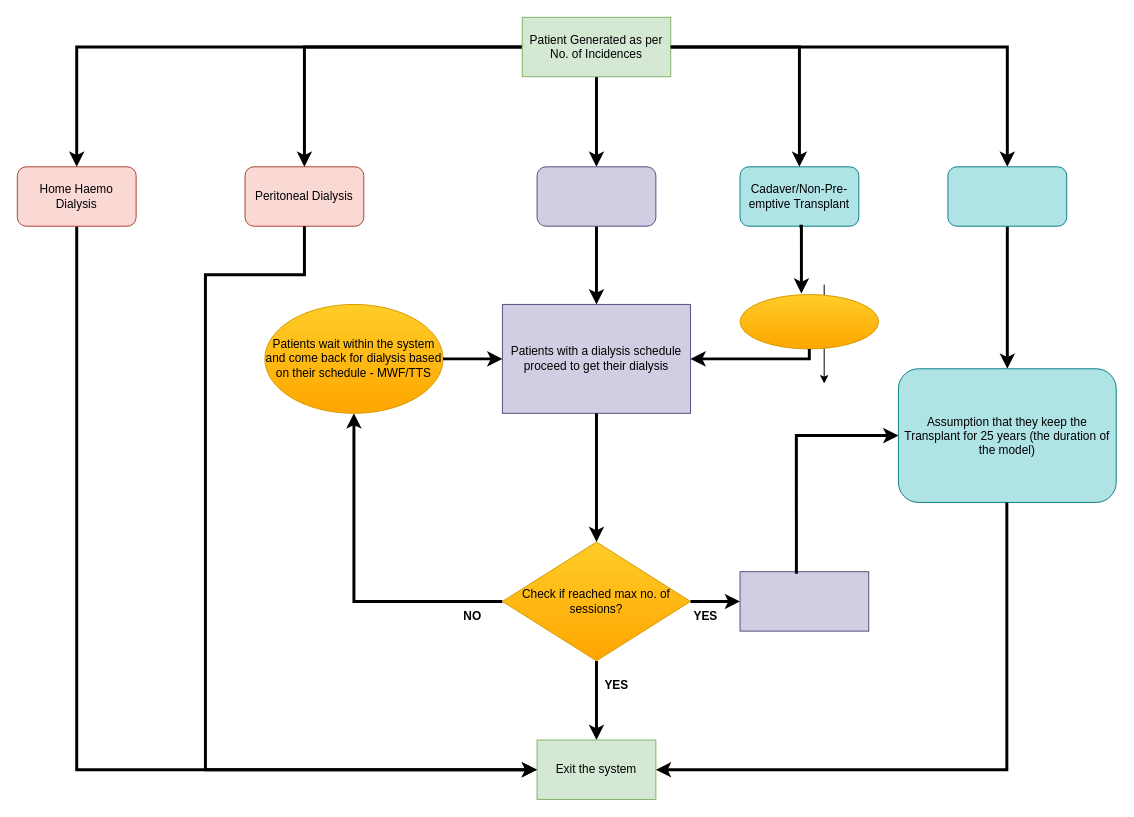
Image size: 1134x817. Some labels were removed from this diagram. Each missing label, with the centre of its shape:
"Cadaver/Non-pre-emptive Patient Receives Transplant" goes at point (804, 601).
"In-Centre Haemo Dialysis" goes at point (596, 196).
"Live/Pre-emptive Transplant" goes at point (1007, 196).
"Proceeds to dialysis before transplant" goes at point (809, 321).
